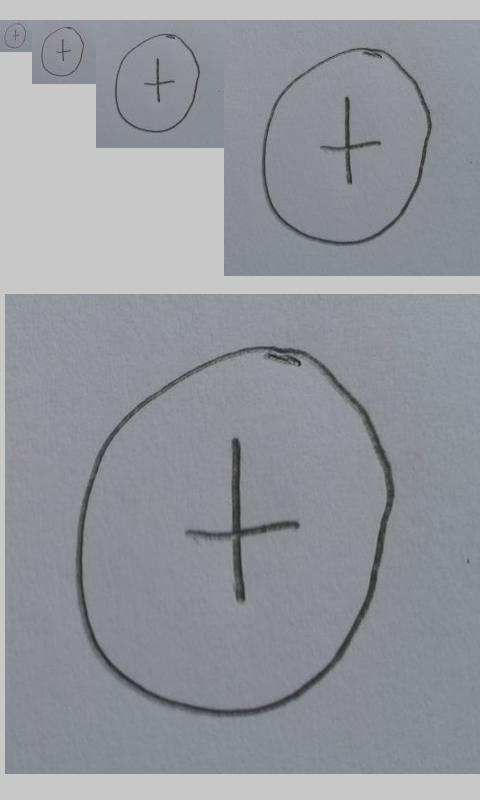button: (73, 342, 398, 720), (260, 45, 433, 247), (114, 33, 201, 134), (40, 26, 85, 77), (4, 23, 27, 49)
